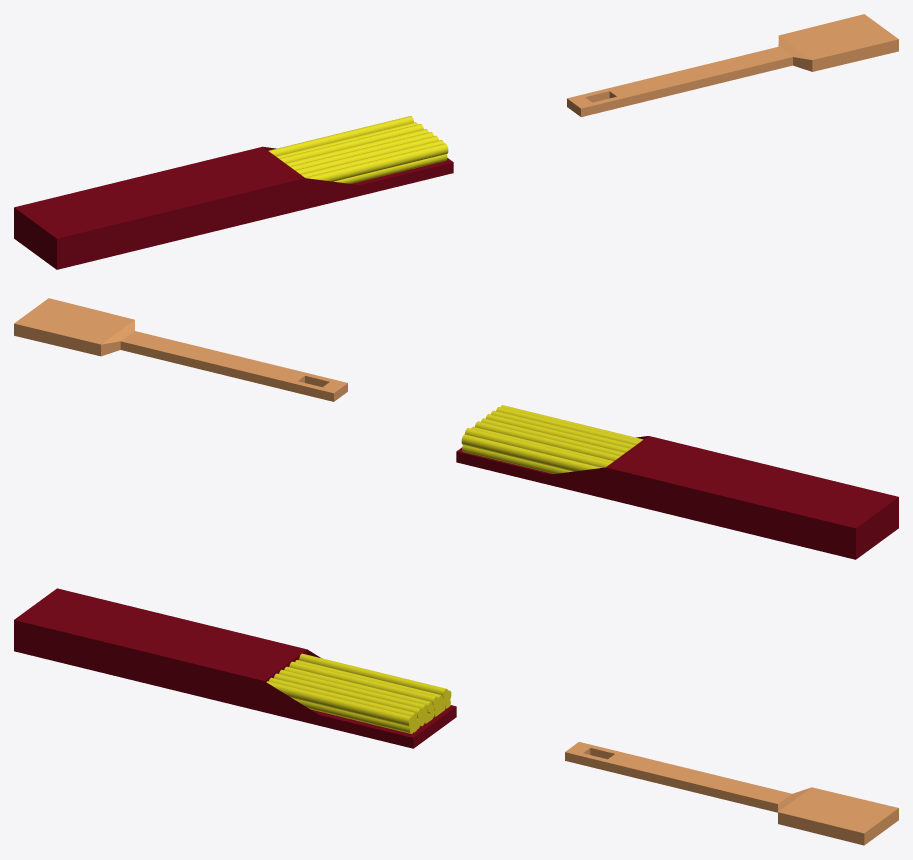
Rendered from kitchen3.fbx.
3 views of the same model, one above another, from view 1: azimuth 30°, elevation 25°; view 2: azimuth 150°, elevation 25°; view 3: azimuth 330°, elevation 25° (orthographic).
Visible parts, largest first — view 1: spaghetti, woodspoon; view 2: spaghetti, woodspoon; view 3: spaghetti, woodspoon.
Part boxes in pixels (box(x1,y1,x2,y2)): spaghetti: box(14, 116, 453, 269); woodspoon: box(567, 14, 898, 117); spaghetti: box(456, 405, 898, 559); woodspoon: box(14, 298, 347, 401); spaghetti: box(14, 588, 456, 748); woodspoon: box(565, 742, 898, 845).
Bounding box in the file's own units: 40279 × 1423 × 3547.
